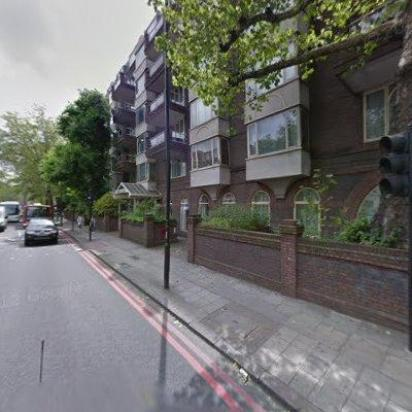moving-bus: (22, 203, 52, 229), (0, 200, 20, 222)
moving-car: (24, 217, 58, 245)
moving-light-truck: (0, 206, 7, 232)
